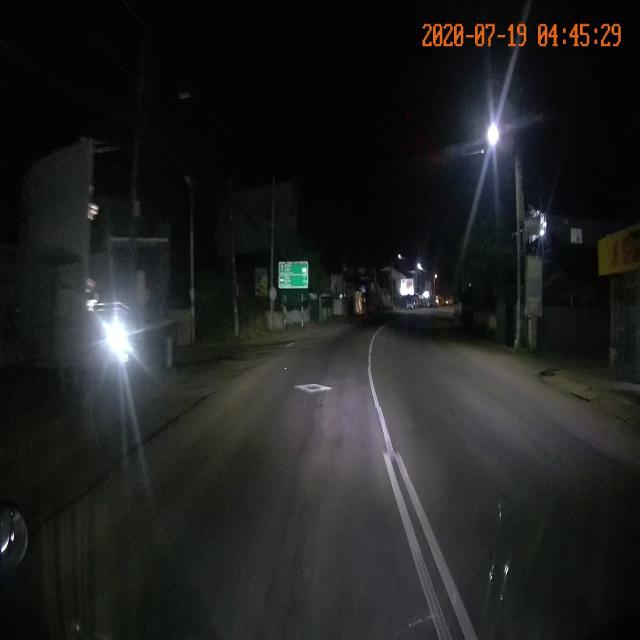diamond: (233, 368, 381, 407)
